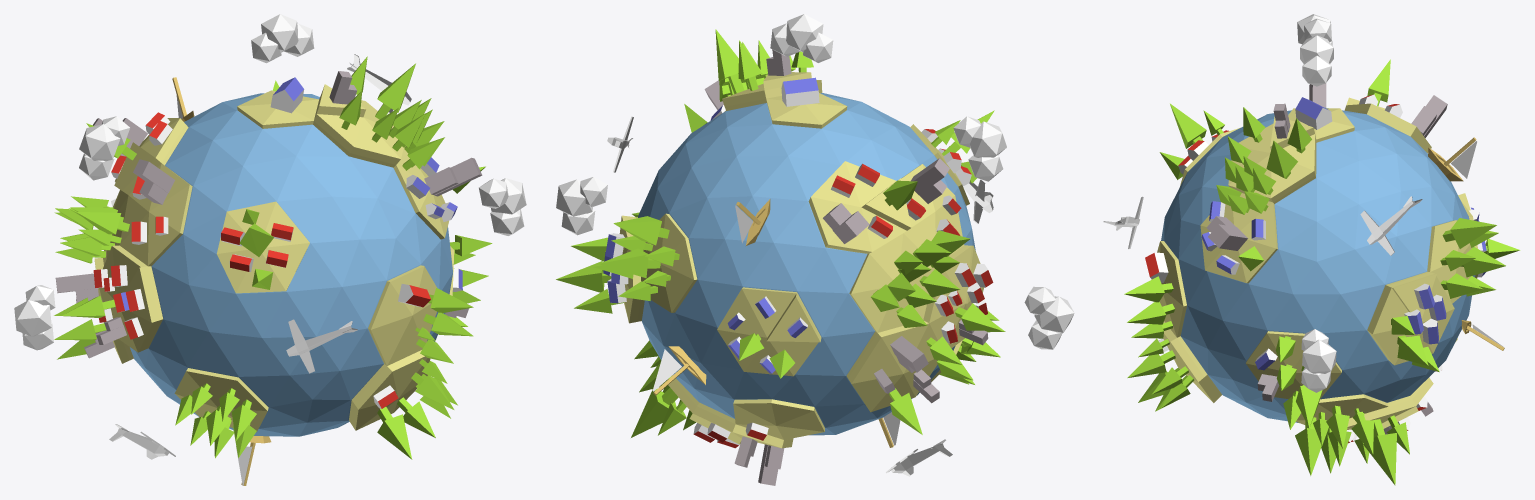
The model's file is myPlanet.glb.
3 views of the same model, side by side, from view 1: azimuth 30°, elevation 25°; view 2: azimuth 150°, elevation 25°; view 3: azimuth 270°, elevation 25° (orthographic). The views are drawn at different scales.
Parts seen in each view (by area): view 1: Icosphere.001, Icosphere, Plane.110, Plane.064, Plane.073, Plane.137, Icosphere.006, Icosphere.016, Icosphere.013, Icosphere.010, Plane.132; view 2: Icosphere.001, Icosphere, Plane.110, Plane.064, Plane.073, Plane.132, Icosphere.016, Icosphere.010, Icosphere.013, Icosphere.006, Plane.137; view 3: Icosphere.001, Plane.110, Icosphere, Plane.064, Plane.073, Icosphere.010, Icosphere.006, Plane.132, Plane.137, Icosphere.016.
Part boxes in pixels (x1,y1,x2,y2): Icosphere.001: (130, 93, 452, 436); Icosphere: (94, 84, 454, 432); Plane.110: (54, 56, 492, 459); Plane.064: (93, 77, 462, 408); Plane.073: (55, 71, 482, 358); Plane.137: (109, 54, 411, 459); Icosphere.006: (251, 14, 314, 63); Icosphere.016: (79, 116, 129, 180); Icosphere.013: (14, 285, 55, 350); Icosphere.010: (479, 178, 526, 235); Plane.132: (172, 77, 271, 485); Icosphere.001: (638, 93, 975, 435); Icosphere: (619, 72, 984, 448); Plane.110: (556, 29, 1005, 437); Plane.064: (603, 77, 993, 448); Plane.073: (704, 49, 988, 485); Plane.132: (652, 199, 900, 447); Icosphere.016: (953, 116, 1006, 181); Icosphere.010: (556, 177, 607, 235); Icosphere.013: (1024, 286, 1074, 349); Icosphere.006: (770, 14, 833, 62); Plane.137: (607, 116, 993, 476); Icosphere.001: (1161, 107, 1475, 422); Plane.110: (1124, 59, 1520, 485); Icosphere: (1157, 97, 1478, 429); Plane.064: (1145, 94, 1486, 443); Plane.073: (1206, 83, 1447, 434); Icosphere.010: (1301, 329, 1336, 392); Icosphere.006: (1300, 35, 1333, 86); Plane.132: (1428, 137, 1504, 350); Plane.137: (1103, 196, 1422, 255); Icosphere.016: (1297, 14, 1332, 45).
Bounding box in the file's own units: 3.53 × 2.92 × 2.71.
